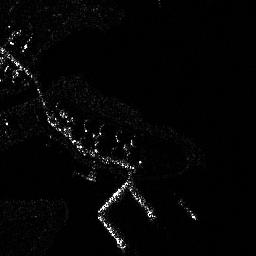ship: (177, 199, 197, 221)
